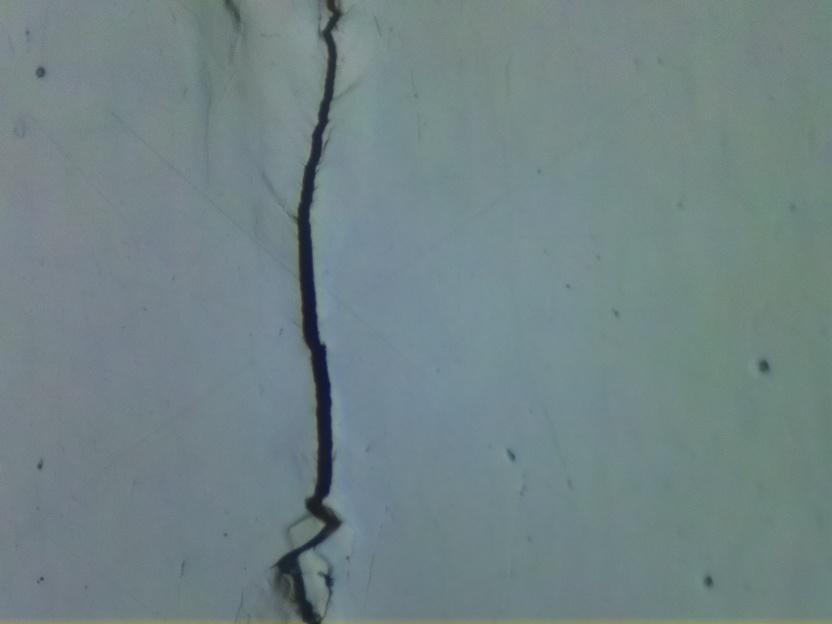crack: (272, 0, 346, 624)
